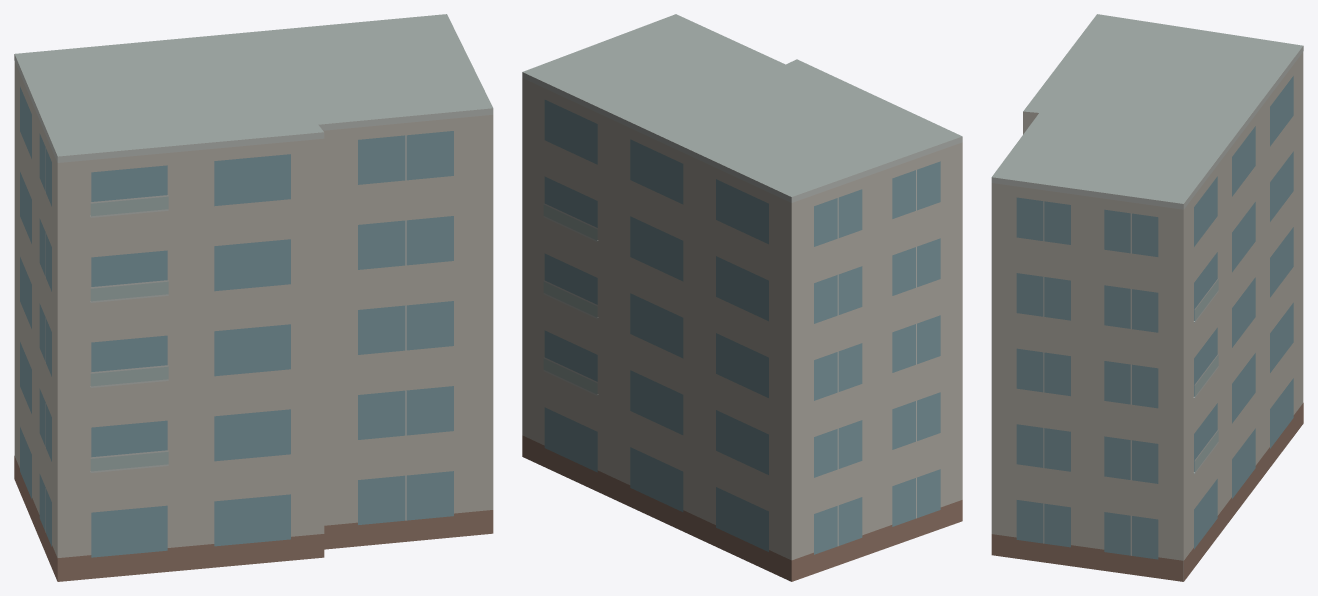
Rendered from survey-upis-32671727.glb.
3 renders of one model, left to right at view 1: azimuth 30°, elevation 25°; view 2: azimuth 150°, elevation 25°; view 3: azimuth 270°, elevation 25°, orthographic. The views are drawn at different scales.
Visible parts, largest first — view 1: survey-upis-32671727.tmp; view 2: survey-upis-32671727.tmp; view 3: survey-upis-32671727.tmp.
Part boxes in pixels (<box>): survey-upis-32671727.tmp: <box>14,14,493,581</box>; survey-upis-32671727.tmp: <box>522,14,962,581</box>; survey-upis-32671727.tmp: <box>991,14,1303,581</box>.
Size of the model in its own units: 17.26 by 16 by 11.98.
